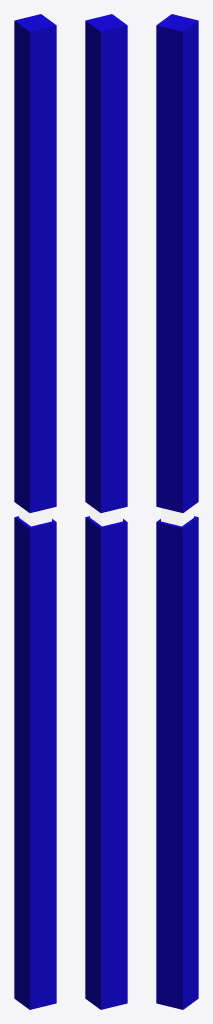
The model's file is pillar.glb.
The picture shows the model from 3 angles, left to right: view 1: azimuth 30°, elevation 25°; view 2: azimuth 210°, elevation 25°; view 3: azimuth 330°, elevation 25°; orthographic projection.
Visible parts, largest first — view 1: Cube.001, Cube, Cube.002; view 2: Cube.001, Cube, Cube.002; view 3: Cube.001, Cube, Cube.002.
Boxes of the visible parts, x1,y1,x2,y2 form: Cube.001: (14,14,56,512); Cube: (14,516,56,1009); Cube.002: (19,505,51,526); Cube.001: (85,14,127,512); Cube: (85,516,127,1009); Cube.002: (90,505,122,526); Cube.001: (156,14,198,512); Cube: (156,516,198,1009); Cube.002: (161,505,193,526).
Size of the model in its own units: 36.75 by 1285 by 36.75.
